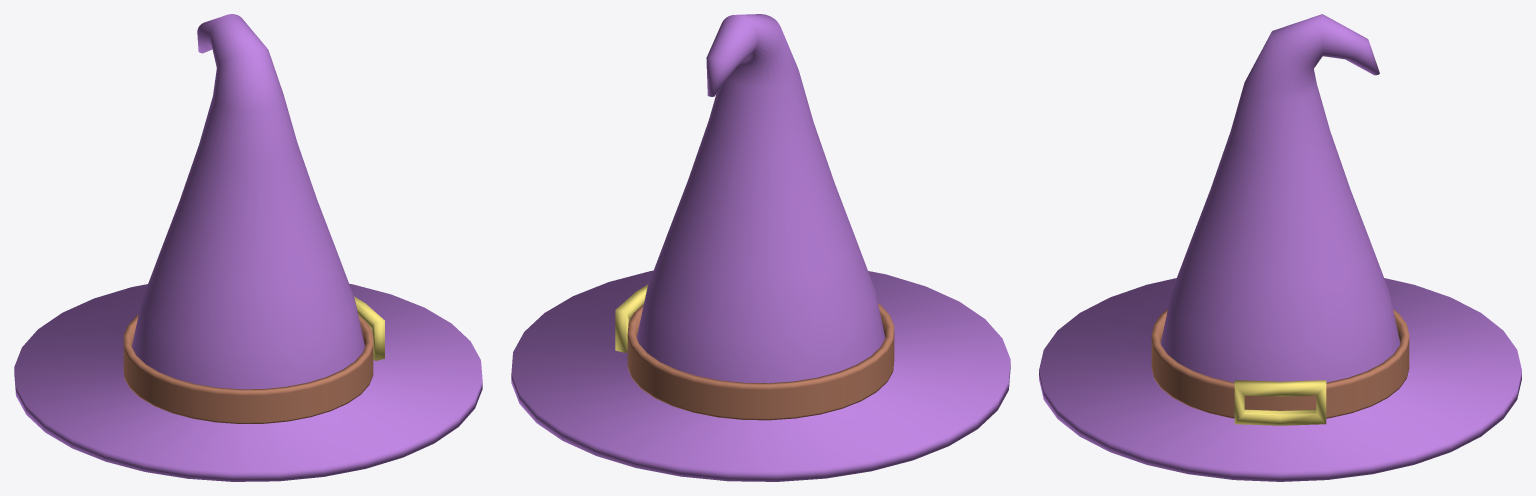
Rendered from wizardHat.fbx.
The picture shows the model from 3 angles, left to right: view 1: azimuth 30°, elevation 25°; view 2: azimuth 150°, elevation 25°; view 3: azimuth 270°, elevation 25°; orthographic projection. The views are drawn at different scales.
Visible parts, largest first — view 1: wizardHat; view 2: wizardHat; view 3: wizardHat.
Part boxes in pixels (x1=…): wizardHat: x1=14, y1=14, x2=482, y2=481; wizardHat: x1=511, y1=14, x2=1010, y2=481; wizardHat: x1=1039, y1=14, x2=1521, y2=481.
Bounding box in the file's own units: 75.27 × 62.62 × 75.27.
